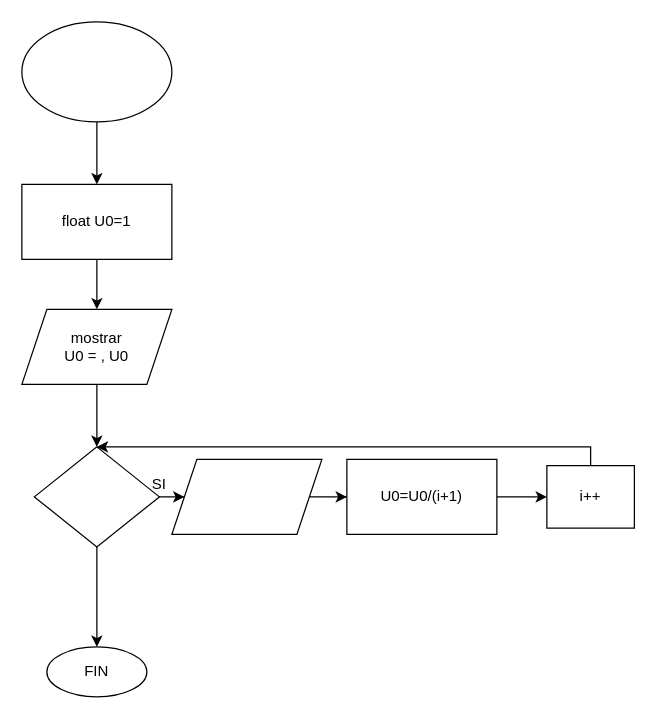
Some shapes in this 656 by 719 pixel diagram are drawn without their labels. Here are the shapes that lost their labels. From the top down, the box of each, then its label:
(21, 21, 172, 122): INICIO 11
(33, 446, 159, 547): int i=0, i<10
(171, 458, 322, 534): mostrar U i+1 = U0/(i+1)
